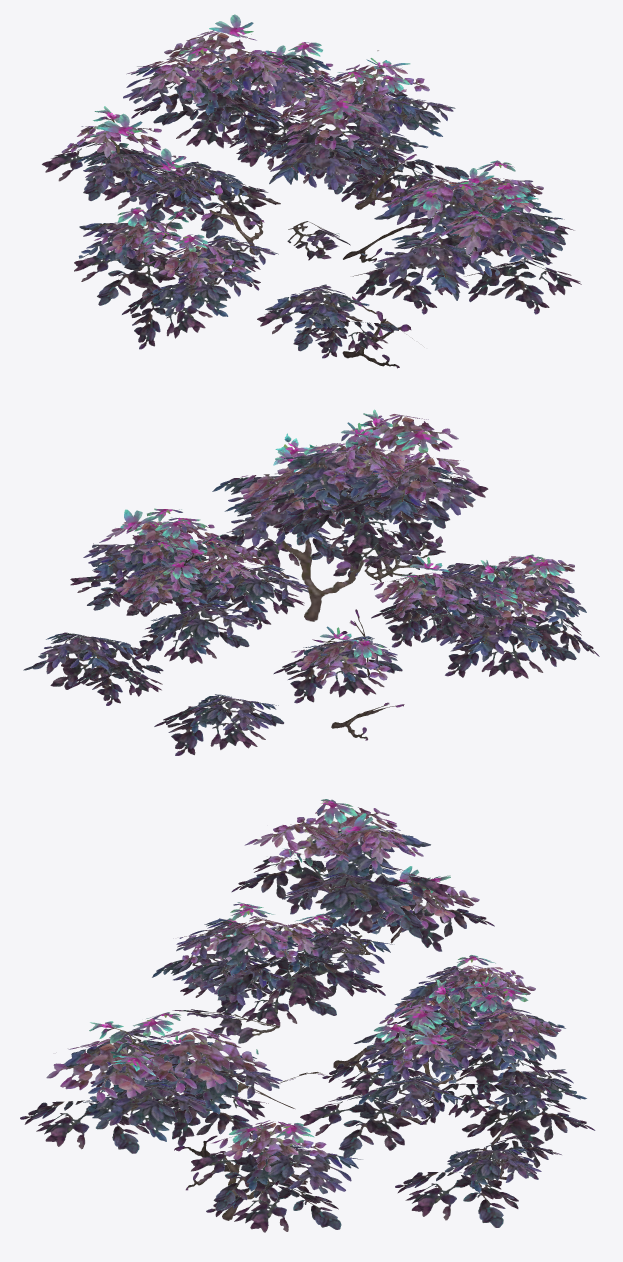
Rendered from Yland2_sy_02 Yland2.FBX.
The picture shows the model from 3 angles, top to bottom: view 1: azimuth 30°, elevation 25°; view 2: azimuth 150°, elevation 25°; view 3: azimuth 270°, elevation 25°; orthographic projection. The views are drawn at different scales.
Parts seen in each view (by area): view 1: Yland2_sy_02 Yland2; view 2: Yland2_sy_02 Yland2; view 3: Yland2_sy_02 Yland2.
Part boxes in pixels (x1=…): Yland2_sy_02 Yland2: x1=42, y1=14, x2=581, y2=368; Yland2_sy_02 Yland2: x1=23, y1=409, x2=599, y2=755; Yland2_sy_02 Yland2: x1=20, y1=799, x2=595, y2=1232.
Size of the model in its own units: 25.03 by 15.64 by 24.55.
